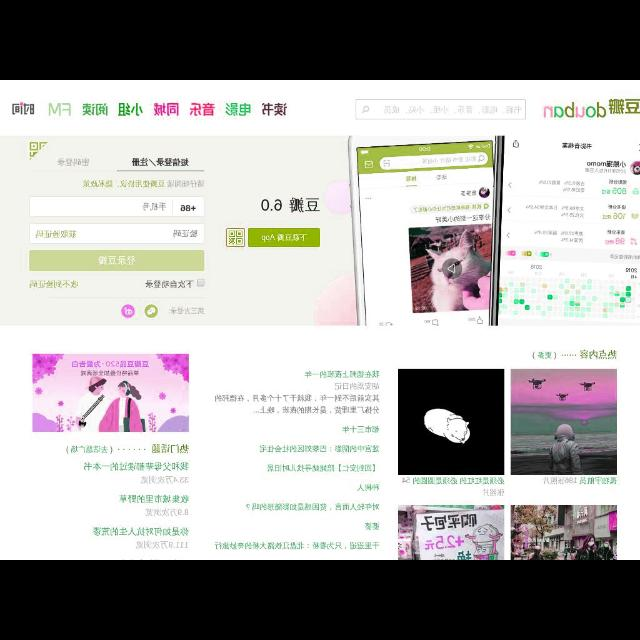button: (120, 304, 134, 320), (146, 305, 160, 317)
checkbox: (195, 278, 207, 286)
icon: (226, 229, 244, 245), (359, 104, 371, 114)
image: (210, 134, 638, 318), (32, 354, 186, 432), (510, 368, 618, 474), (398, 368, 504, 476), (398, 507, 504, 559), (512, 506, 616, 558), (546, 98, 638, 119), (22, 136, 50, 164), (112, 166, 204, 174)
input: (30, 222, 200, 242), (356, 101, 524, 119), (30, 200, 204, 214)
panel: (3, 136, 208, 324)
text: (216, 370, 382, 418), (83, 462, 191, 484), (92, 526, 188, 550), (64, 441, 190, 457), (400, 478, 506, 496), (382, 104, 522, 116), (214, 541, 380, 551), (121, 494, 189, 516), (259, 442, 381, 454), (266, 462, 378, 474), (245, 501, 378, 511), (530, 348, 622, 362), (84, 177, 206, 187), (258, 194, 324, 212), (541, 474, 617, 486), (130, 156, 190, 168), (342, 421, 381, 437), (29, 278, 80, 290), (145, 276, 195, 288), (115, 101, 147, 119), (262, 98, 288, 120), (80, 100, 110, 118), (36, 228, 80, 240), (225, 100, 251, 120), (7, 100, 38, 116), (189, 102, 217, 118), (152, 102, 178, 118), (46, 102, 74, 116), (140, 202, 168, 212), (175, 226, 198, 238), (57, 158, 91, 166), (358, 481, 378, 492), (172, 308, 206, 314), (178, 204, 198, 212), (366, 524, 380, 530)
textbutton: (29, 250, 202, 270), (250, 230, 316, 247)
toolbar: (1, 84, 639, 130)
